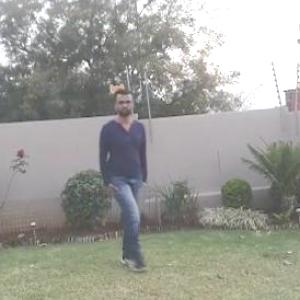follow: (91, 90, 151, 264)
